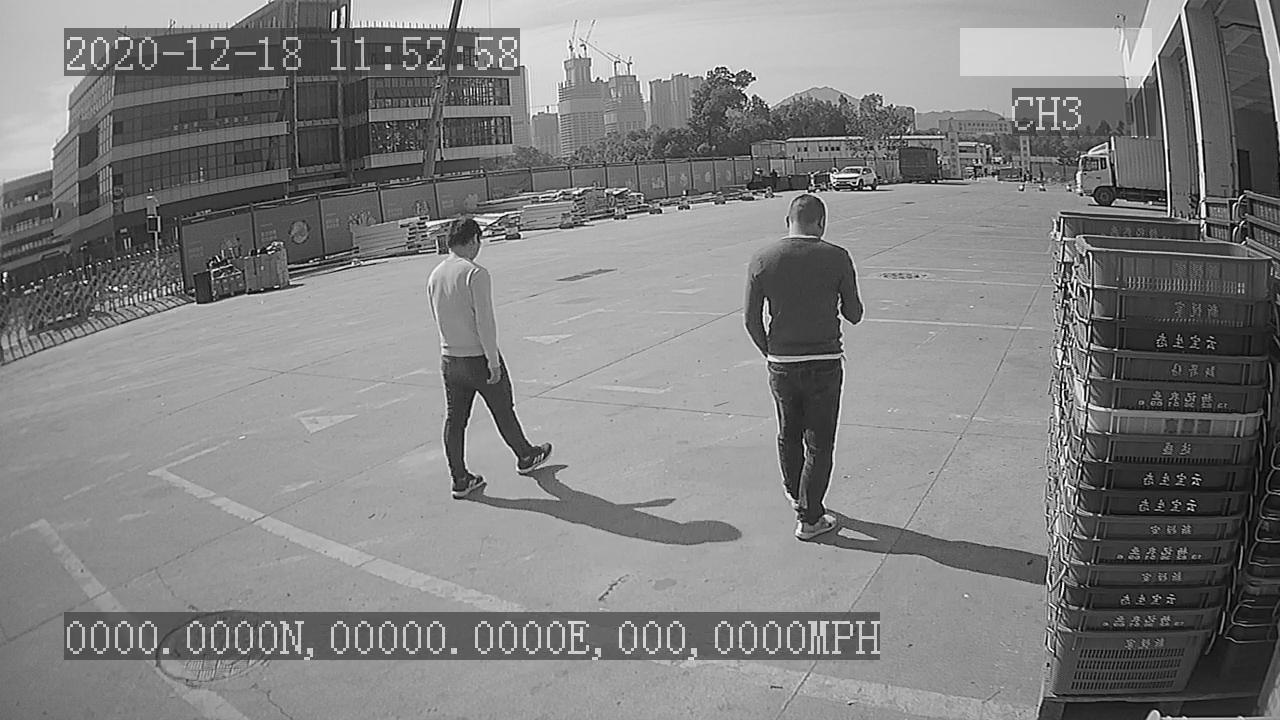person: (734, 181, 872, 538), (417, 210, 560, 501)
